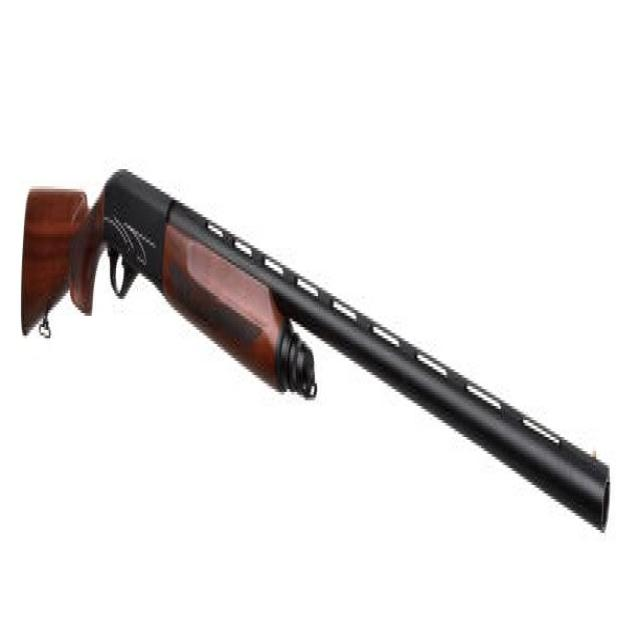rifle: (18, 144, 618, 547)
